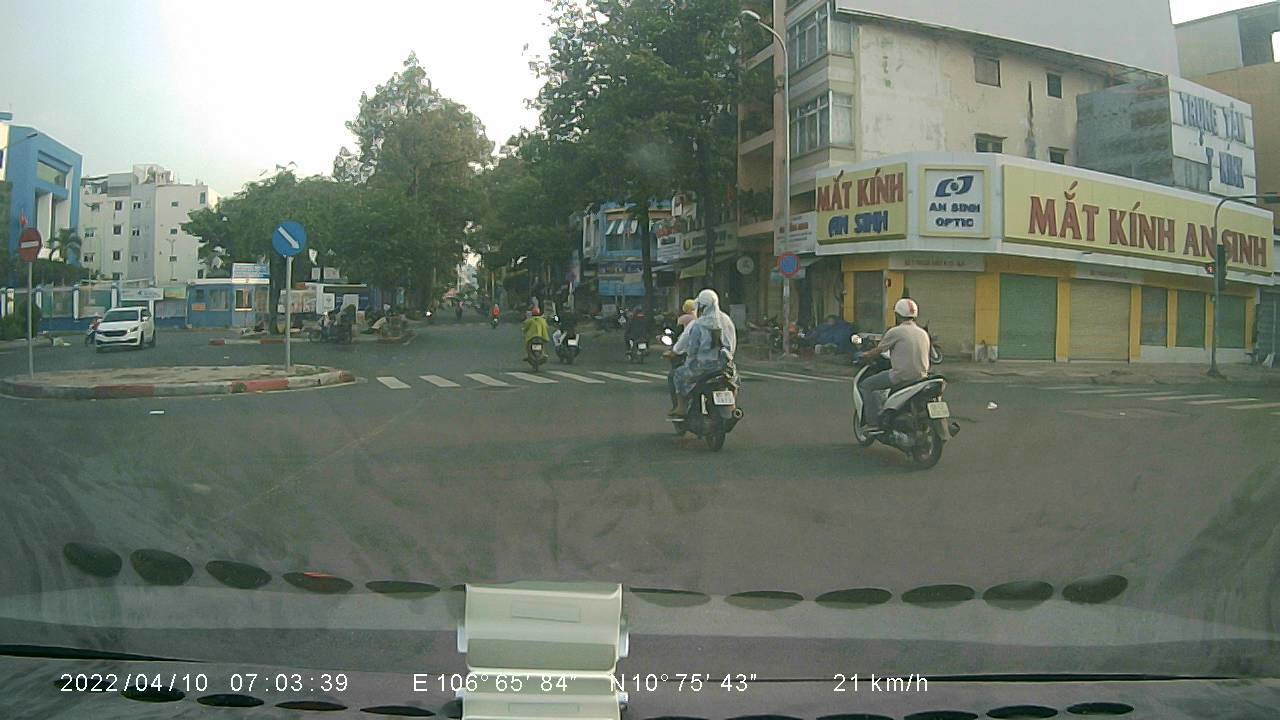Cam do xe: (774, 246, 802, 275)
Huong di phai re phai: (269, 218, 304, 255), (14, 224, 42, 261)
